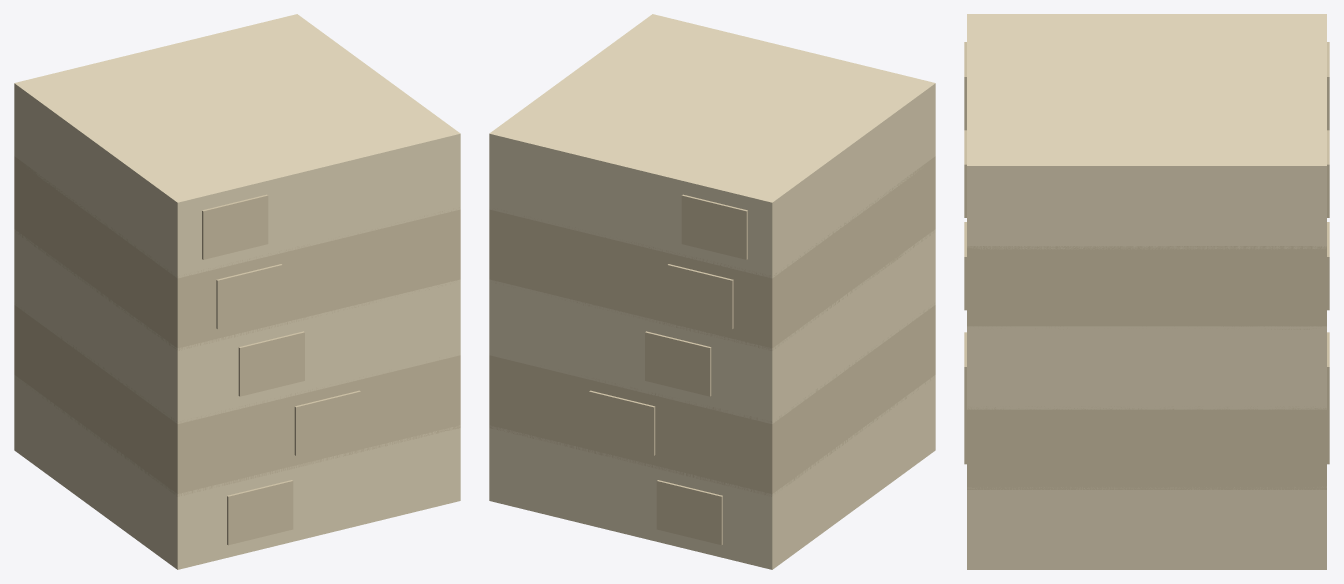
The model's file is mumia_manga_sup.glb.
3 renders of one model, left to right at view 1: azimuth 30°, elevation 25°; view 2: azimuth 150°, elevation 25°; view 3: azimuth 270°, elevation 25°, orthographic. The views are drawn at different scales.
Visible parts, largest first — view 1: mumia_manga_sup; view 2: mumia_manga_sup; view 3: mumia_manga_sup.
Part boxes in pixels (x1,y1,x2,y2): mumia_manga_sup: (14, 14, 460, 569); mumia_manga_sup: (489, 14, 935, 569); mumia_manga_sup: (964, 14, 1329, 569).
Size of the model in its own units: 0.305 by 0.378 by 0.31.
